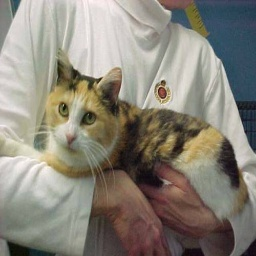cat: (38, 45, 248, 222)
